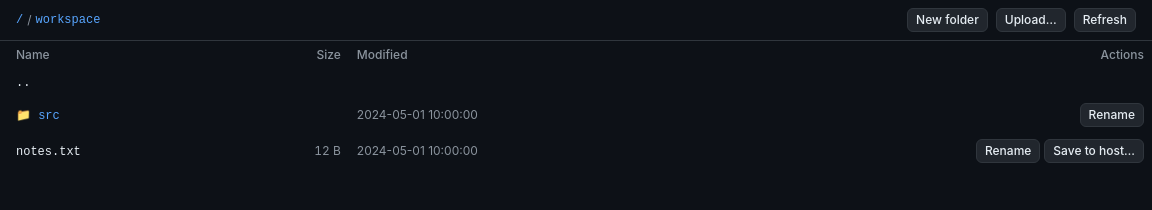
it: FilesTab grid semantics › mounts the live region empty, then fills it
This screenshot has width=1152, height=210.
Click the button "New folder" at {"x": 947, "y": 20}, box [907,8,988,32]
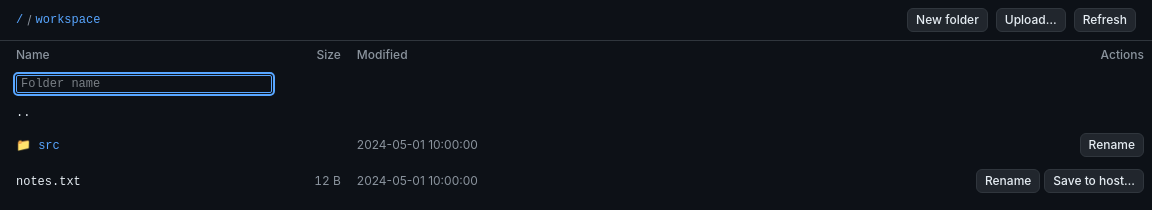
Type "new" into the field named "New folder name" at {"x": 144, "y": 84}, box [16,75,272,93]
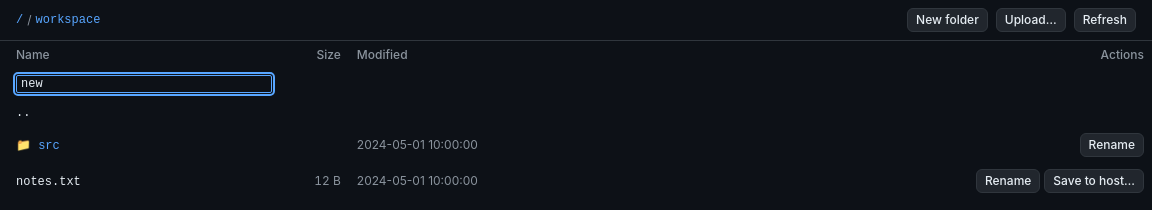
Leave the field named "New folder name", box [16,75,272,93]
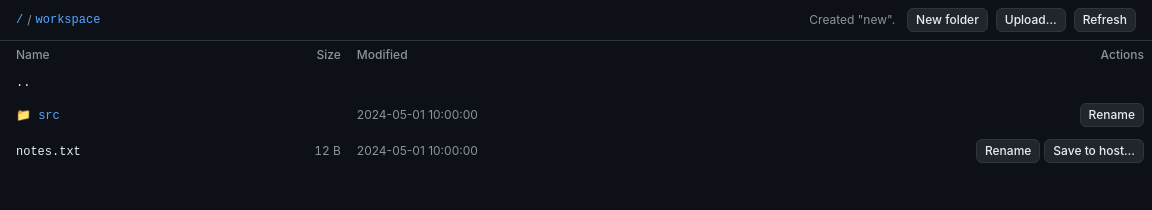
Check: the message shows "Created \"new\"", box [809,12,895,27]
